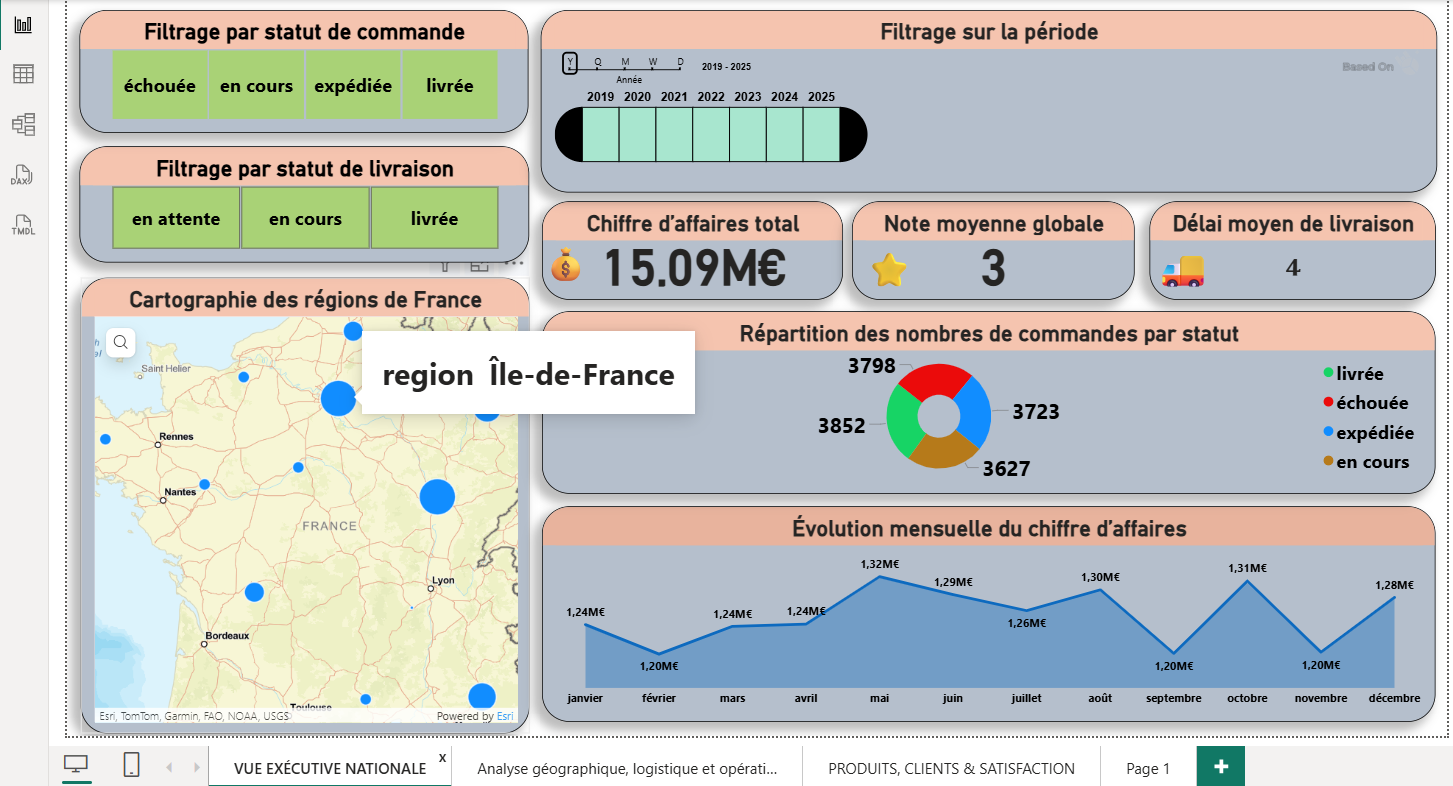

What the dashboard file says about the page in this screenshot:
{"tool":"powerbi","page":{"name":"VUE EXÉCUTIVE NATIONALE","canvas":[1500,800],"ordinal":0},"visuals":[{"type":"esriVisual","title":"Cartographie des régions de France","fields":{"Location":["geolocalisation_avec_regions.region"],"Latitude":["geolocalisation_avec_regions.latitude"],"Longitude":["geolocalisation_avec_regions.longitude"],"Size":["CountNonNull(clients.id_client)"]},"box":[14.9,305.7,487.8,491.9],"z":0},{"type":"cardVisual","title":"Chiffre d’affaires total","fields":{"Data":["Sum(commandes.montant_total)"]},"box":[515.7,218.6,327.1,107.1],"z":1000},{"type":"lineChart","title":"Évolution mensuelle du chiffre d’affaires","fields":{"Y":["Sum(commandes.montant_total)"],"Category":["commandes.date_commande.Variation.Hiérarchie de dates.Mois"]},"box":[515.7,550,971.4,234.3],"z":2000},{"type":"cardVisual","title":"Délai moyen de livraison","fields":{"Data":["Avg(livraisons.Délai_livraison_jours)"]},"box":[1176.3,218.3,311.5,107.1],"z":3000},{"type":"slicer","title":"Filtrage par statut de livraison","fields":{"Values":["livraisons.statut_livraison"]},"box":[13.6,159,489.1,126.4],"z":4000},{"type":"cardVisual","title":"Note moyenne globale","fields":{"Data":["Avg(avis.note)"]},"box":[853.7,218.3,307.3,107.1],"z":5000},{"type":"BasedOnTimelineSlicer","title":"Filtrage sur la période","fields":{"Time":["commandes.date_commande"]},"box":[515.1,10.9,974.2,198.1],"z":6000},{"type":"donutChart","title":"Répartition des nombres de commandes par statut","fields":{"Y":["CountNonNull(commandes.id_commande)"],"Category":["commandes.statut_commande"]},"box":[515.7,338.6,971.4,198.6],"z":7000},{"type":"slicer","title":"Filtrage par statut de commande","fields":{"Values":["commandes.statut_commande"]},"box":[13.9,11.1,488,133.5],"z":8000},{"type":"shape","title":"⭐","box":[867.6,266.4,64.2,45.1],"z":10000},{"type":"shape","title":"🚚","box":[1181.9,259.6,98.4,51.9],"z":11000},{"type":"shape","title":"💰","box":[516.3,259.5,63.9,46.2],"z":12000}]}

Visuals, with their boxes in screenshot pixels (x1, y1, x2, y2):
"Cartographie des régions de France" esriVisual: [78,278,528,731]
"Chiffre d’affaires total" cardVisual: [540,198,841,296]
"Évolution mensuelle du chiffre d’affaires" lineChart: [540,503,1435,719]
"Délai moyen de livraison" cardVisual: [1148,197,1435,296]
"Filtrage par statut de livraison" slicer: [77,143,528,259]
"Note moyenne globale" cardVisual: [851,197,1134,296]
"Filtrage sur la période" BasedOnTimelineSlicer: [539,6,1437,189]
"Répartition des nombres de commandes par statut" donutChart: [540,308,1435,491]
"Filtrage par statut de commande" slicer: [77,6,527,129]
"⭐" shape: [864,242,923,283]
"🚚" shape: [1153,235,1244,283]
"💰" shape: [540,235,599,278]
